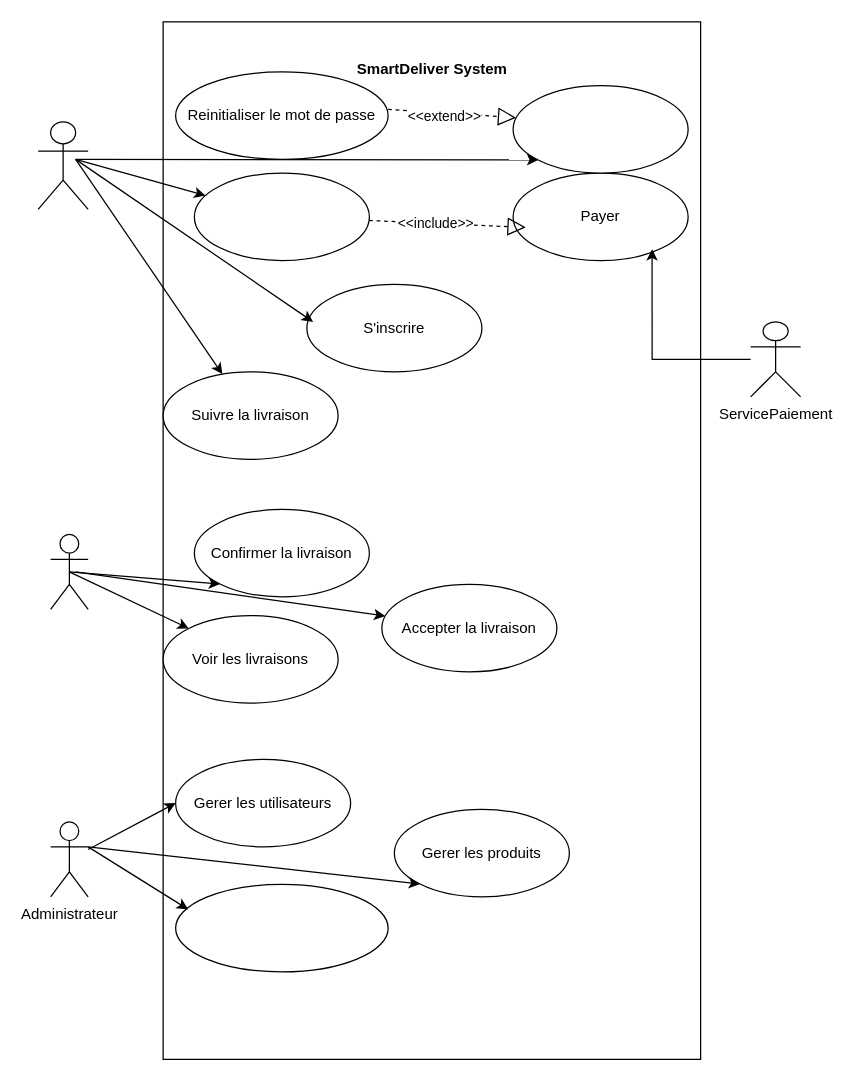
Image size: 854x1081. Some labels were removed from this diagram. The box of each missing label's shape, as (x1, y1, x2, y2) in pixels:
Client: (37, 121, 88, 209)
Livreur: (49, 533, 88, 609)
Passer la commande: (193, 172, 369, 261)
Se connecter: (512, 84, 688, 173)
Superviser les commandes: (174, 883, 388, 972)
